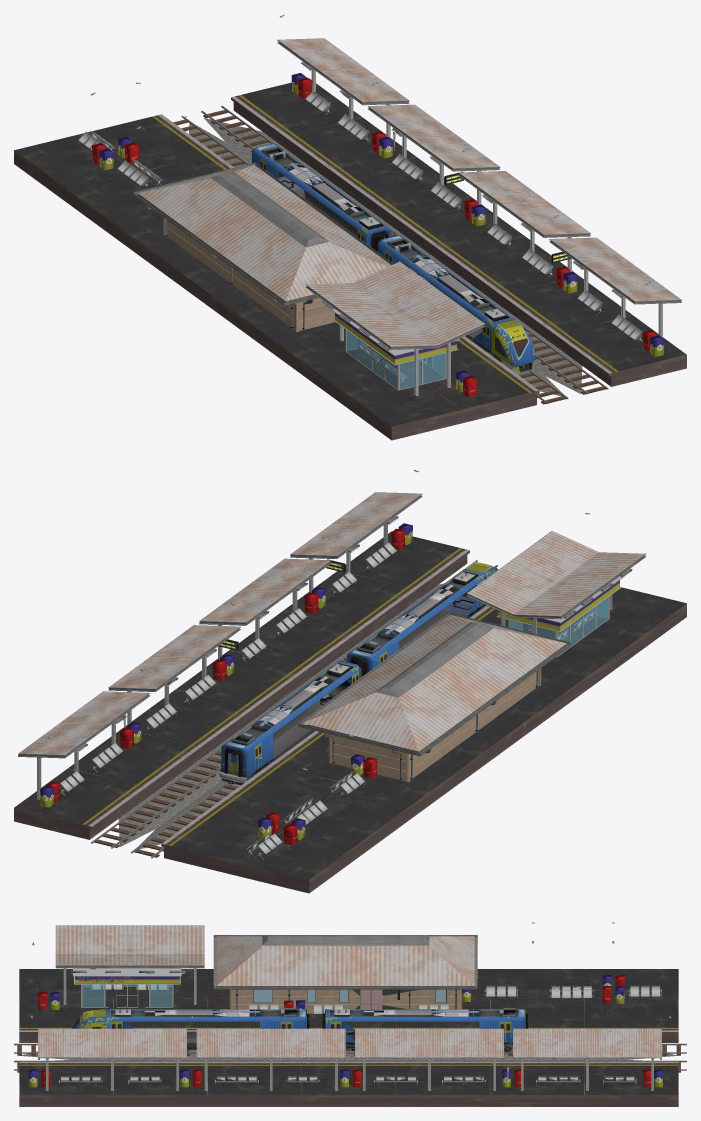
File: station.glb
3 renders of one model, top to bottom at view 1: azimuth 30°, elevation 25°; view 2: azimuth 150°, elevation 25°; view 3: azimuth 270°, elevation 25°, orthographic. The views are drawn at different scales.
Visible parts, largest first — view 1: Back door fluff.001_Trim Material_0, Bacj wheel.001_Train Texture_0, Front lights_Seethrough_0; view 2: Back door fluff.001_Trim Material_0, Bacj wheel.001_Train Texture_0, Front lights_Seethrough_0; view 3: Back door fluff.001_Trim Material_0, Bacj wheel.001_Train Texture_0, Front lights_Seethrough_0.
Part boxes in pixels (x1,y1,x2,y2): Back door fluff.001_Trim Material_0: (14, 15, 686, 440); Bacj wheel.001_Train Texture_0: (252, 143, 535, 372); Front lights_Seethrough_0: (346, 330, 535, 389); Back door fluff.001_Trim Material_0: (14, 469, 686, 893); Bacj wheel.001_Train Texture_0: (219, 562, 498, 784); Front lights_Seethrough_0: (510, 597, 608, 655); Back door fluff.001_Trim Material_0: (14, 922, 686, 1106); Bacj wheel.001_Train Texture_0: (72, 1008, 527, 1052); Front lights_Seethrough_0: (75, 984, 172, 1021).
Bounding box in the file's own units: 38.54 × 10.94 × 85.58.
4 materials, 4 textured.
